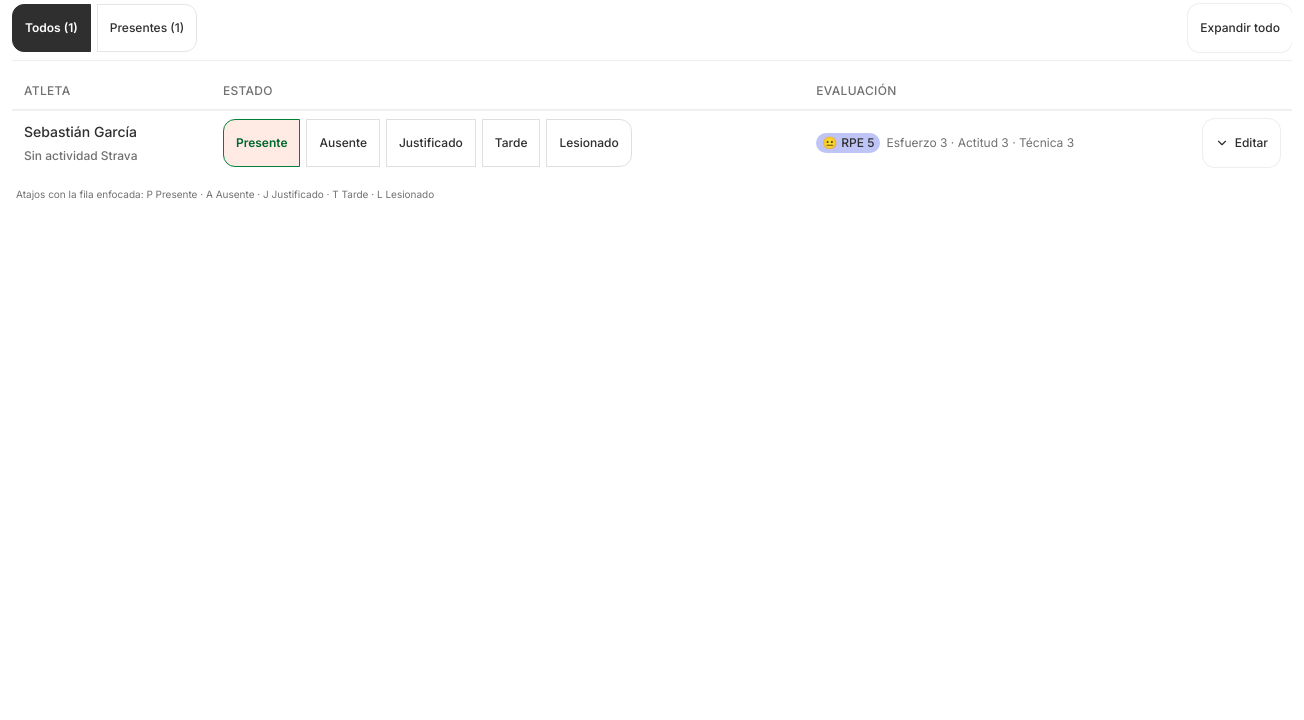
Test case: AttendanceTable › rediseño progressive disclosure — rúbrica colapsada por defecto › el resumen de chips se actualiza en vivo al editar la rúbrica expandida
Click the button "Editar" at (1241, 143), box x1=1203 y1=119 x2=1280 y2=167
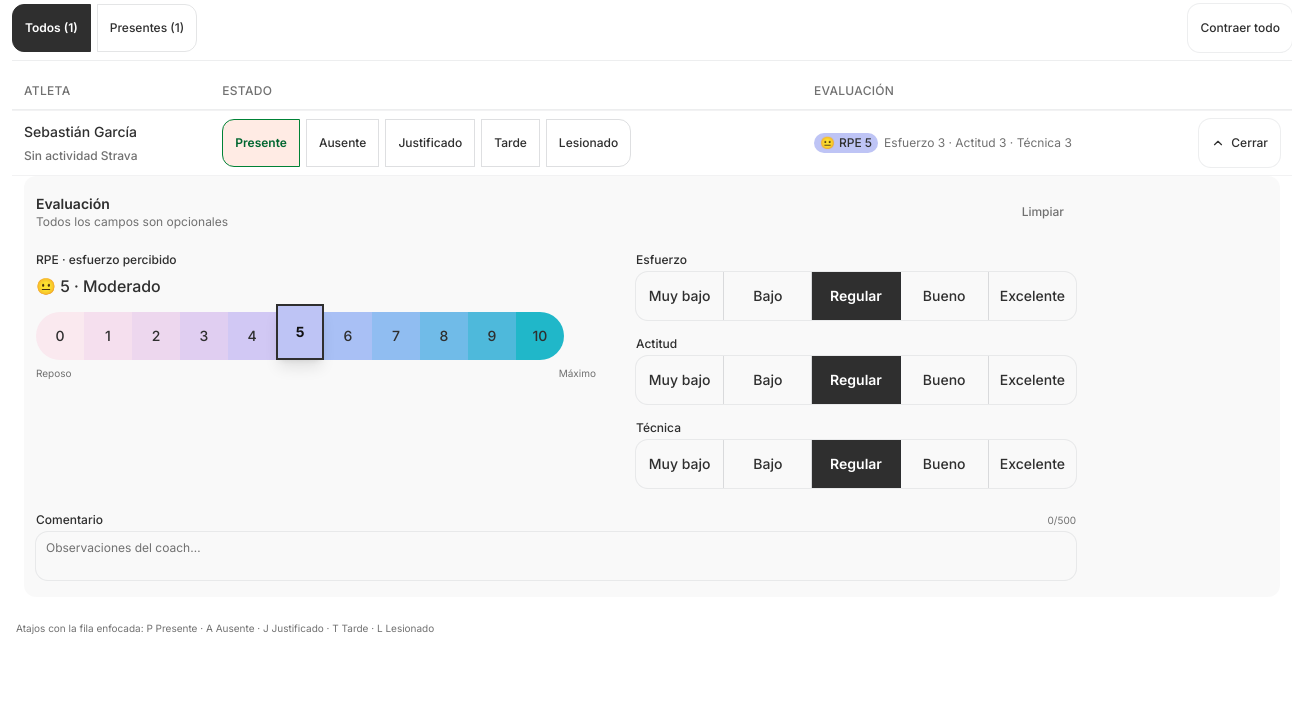
Click the radio button with aria-label "Esfuerzo: 5 — Excelente" at (1032, 296), box x1=989 y1=272 x2=1076 y2=320
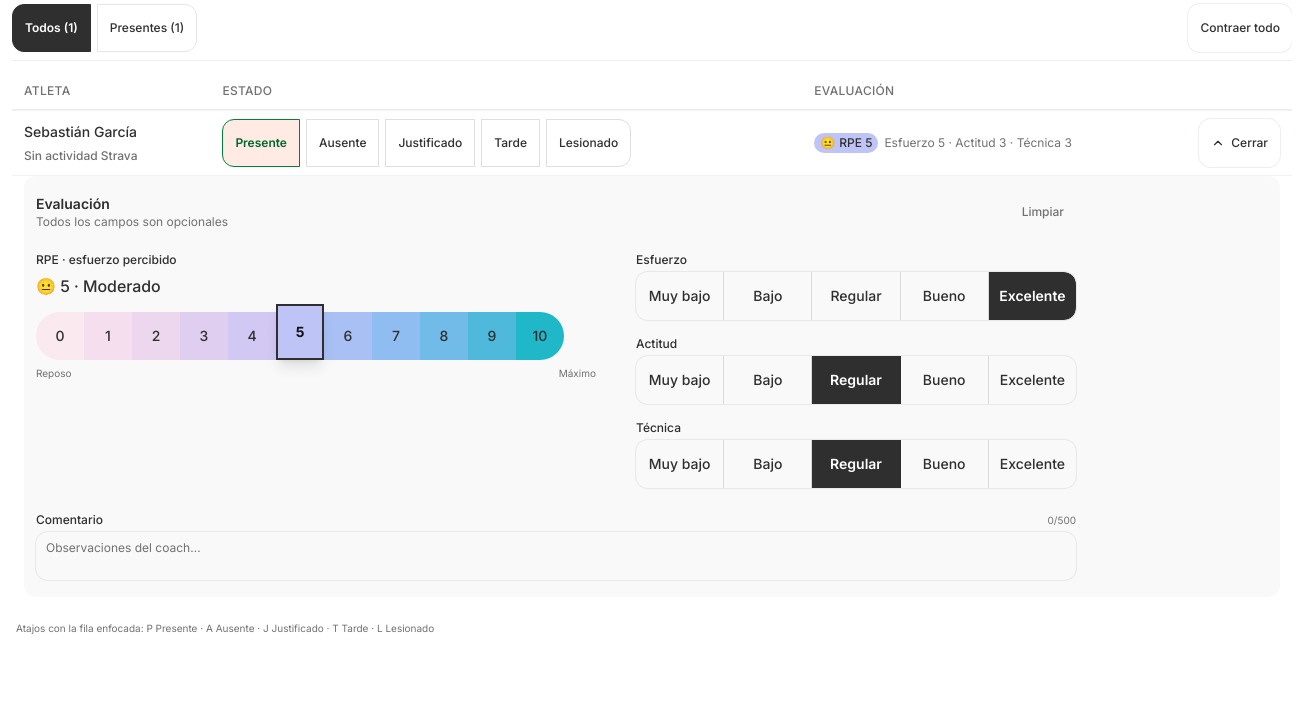
Now the text "Esfuerzo 5 · Actitud 3 · Técnica 3" is shown, box x1=884 y1=135 x2=1072 y2=151
